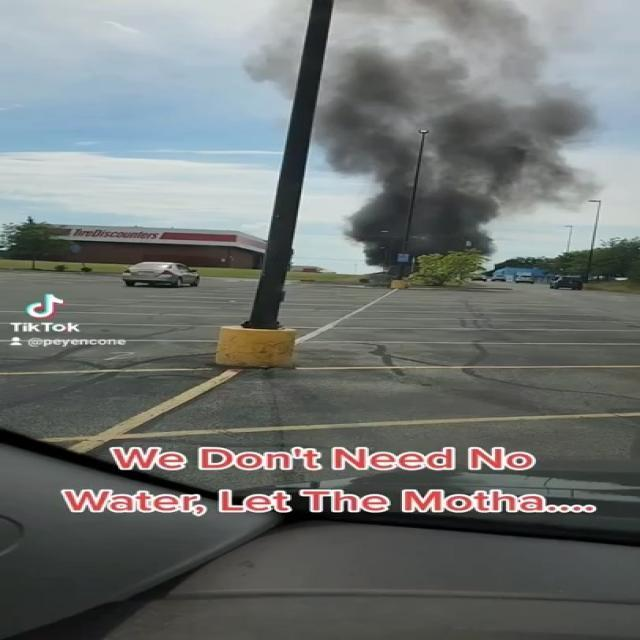Smoke: (320, 56, 572, 266)
